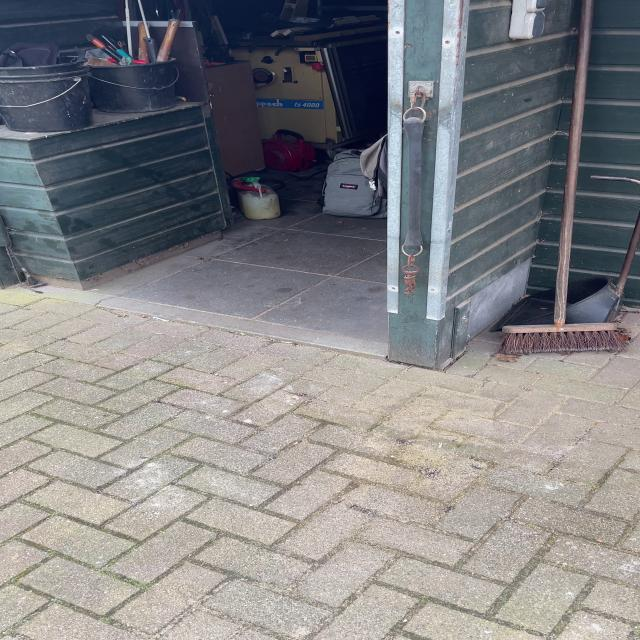backpack: (312, 144, 401, 222)
